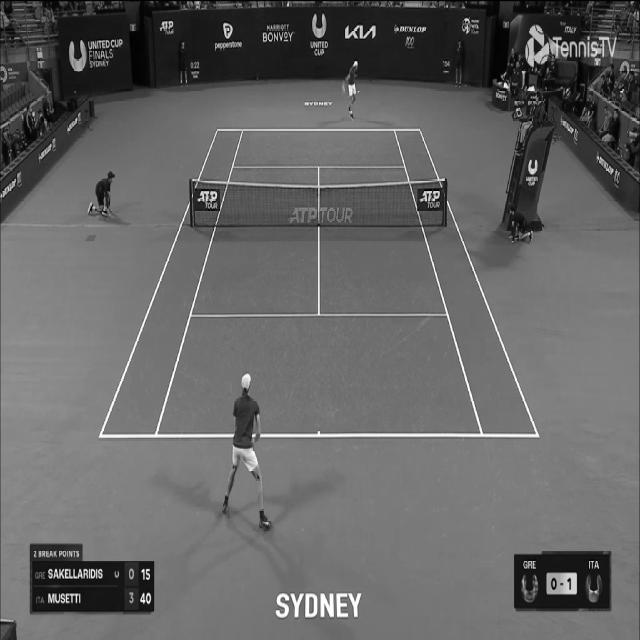tennis-court: (98, 128, 541, 438)
